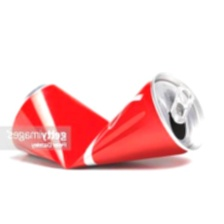can: (6, 69, 208, 173)
